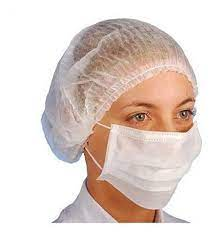with_mask_and_cap: (51, 21, 198, 211)
